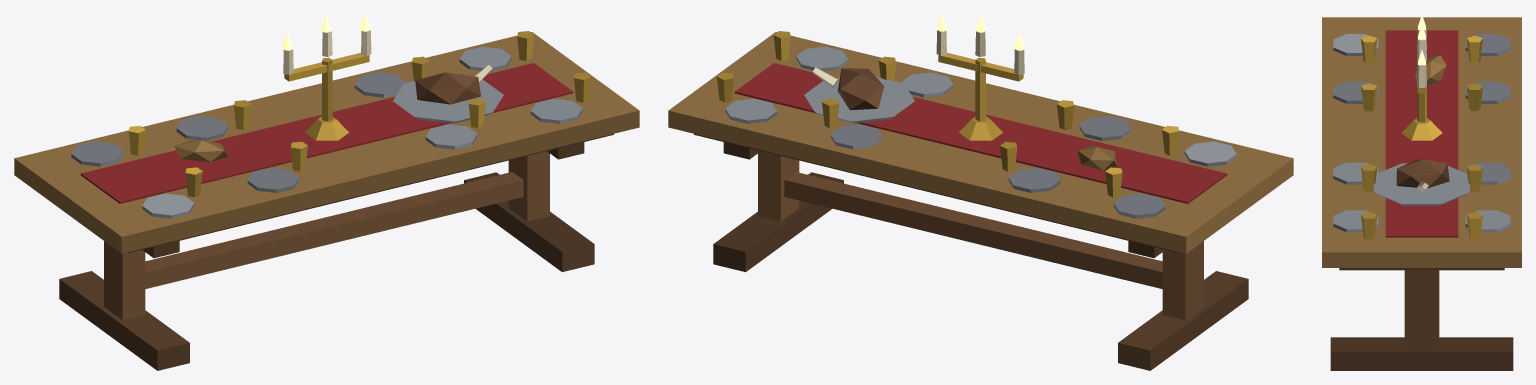
File: banquet_table.glb
3 renders of one model, left to right at view 1: azimuth 30°, elevation 25°; view 2: azimuth 150°, elevation 25°; view 3: azimuth 270°, elevation 25°, orthographic. The views are drawn at different scales.
Visible parts, largest first — view 1: banquet_table; view 2: banquet_table; view 3: banquet_table.
Boxes of the visible parts, x1,y1,x2,y2 form: banquet_table: [14, 14, 639, 370]; banquet_table: [668, 14, 1293, 370]; banquet_table: [1322, 15, 1521, 370].
Size of the model in its own units: 3.2 by 1.58 by 1.15.
